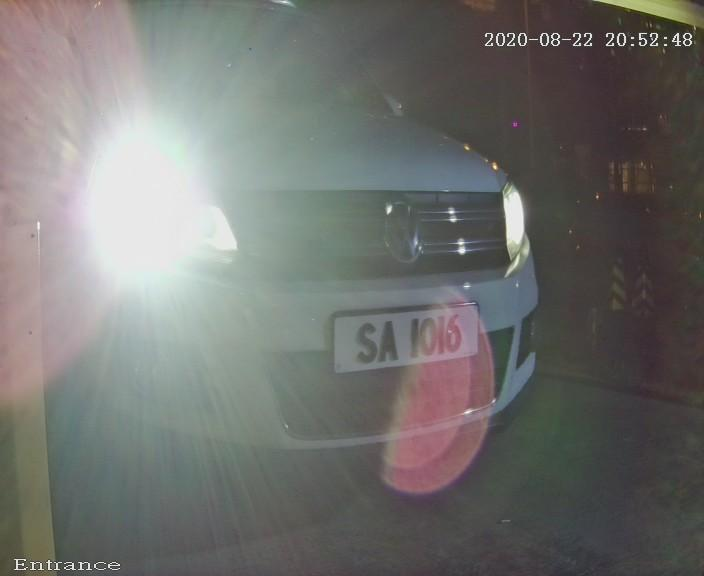License Plate: (305, 280, 501, 395)
